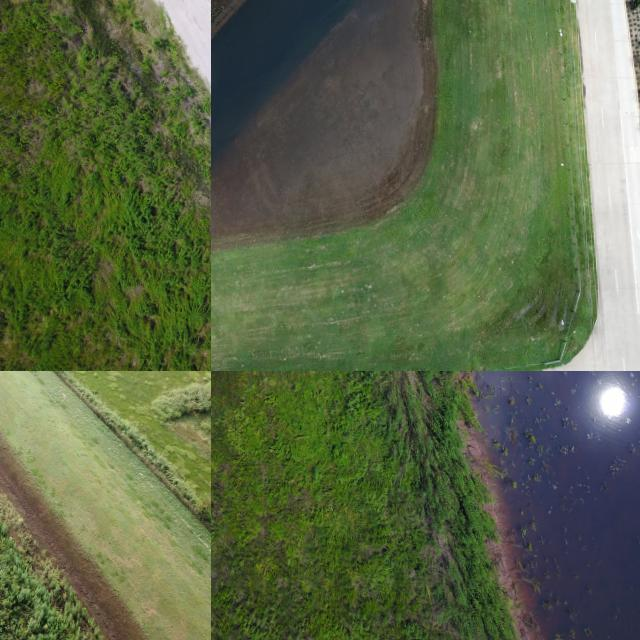fire: (476, 371, 640, 640), (211, 0, 354, 161)
